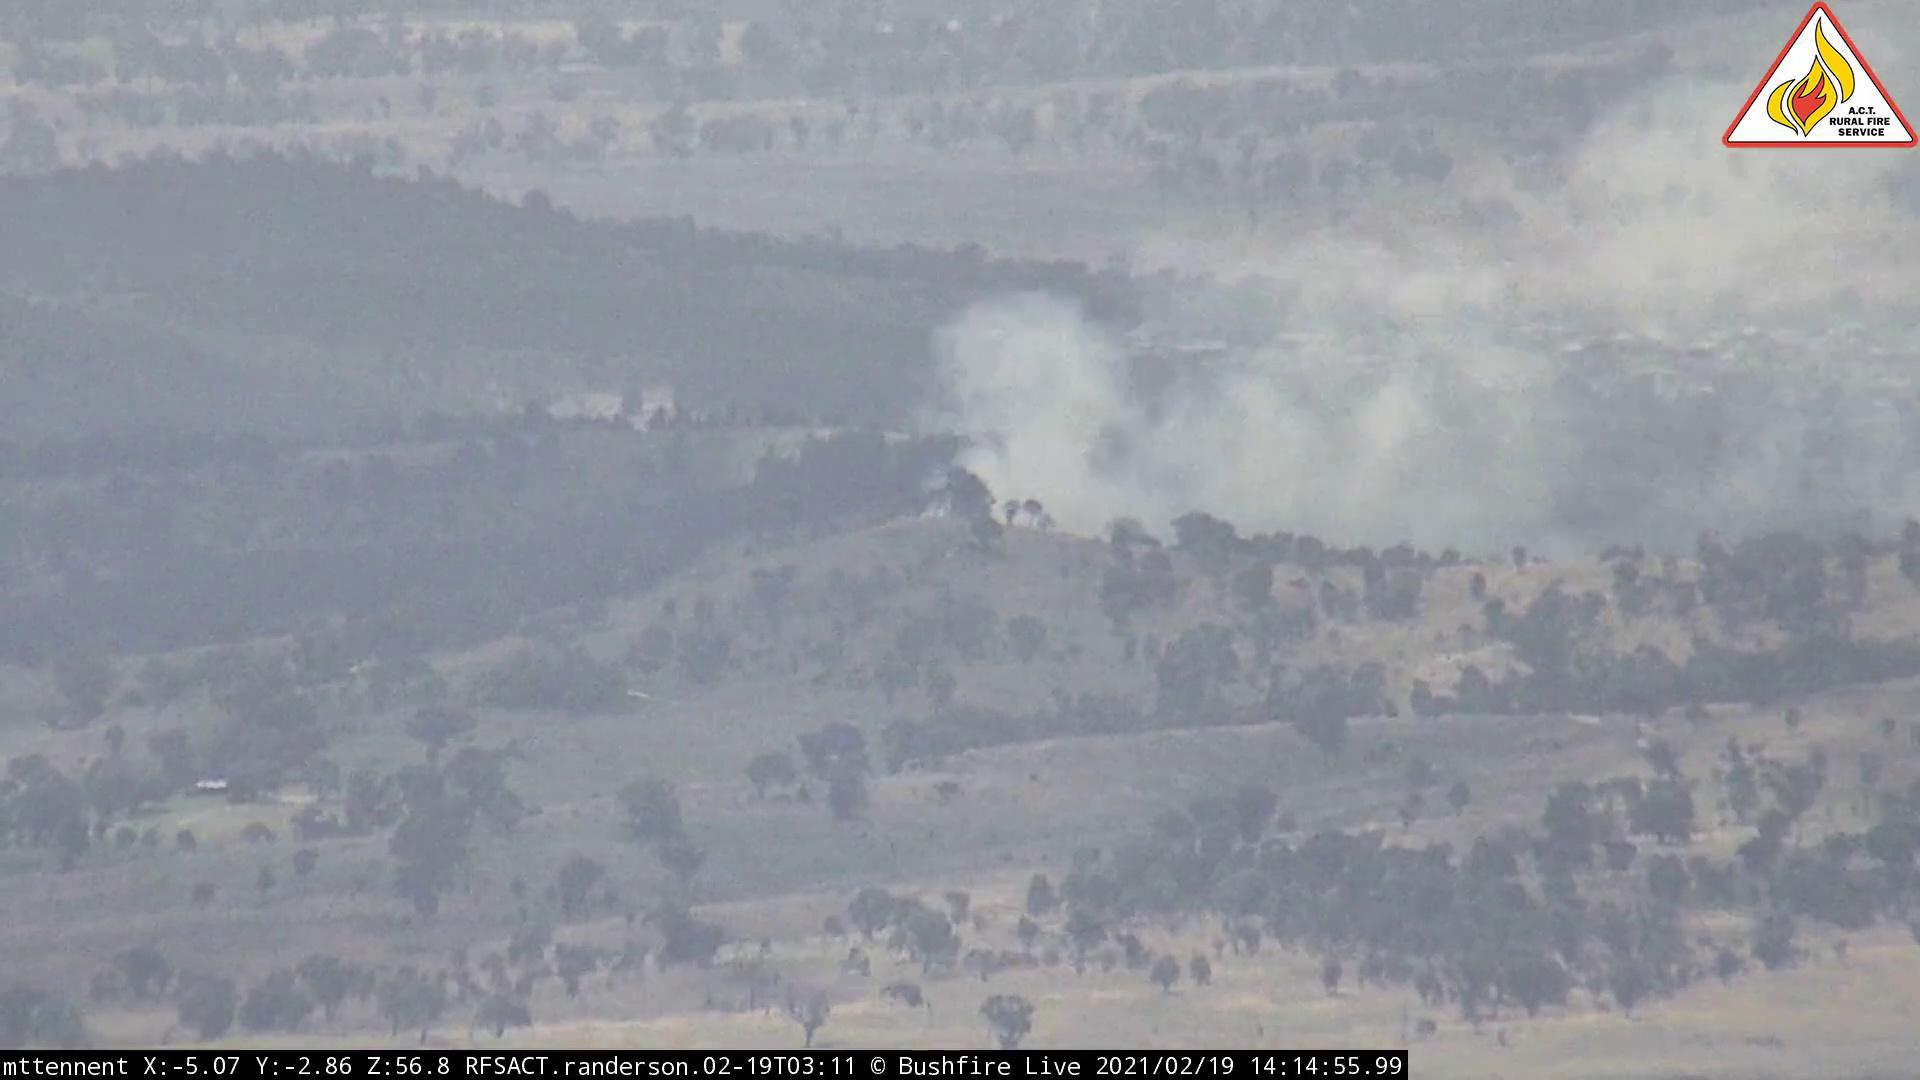instance_salient_object: (895, 196, 1708, 566)
